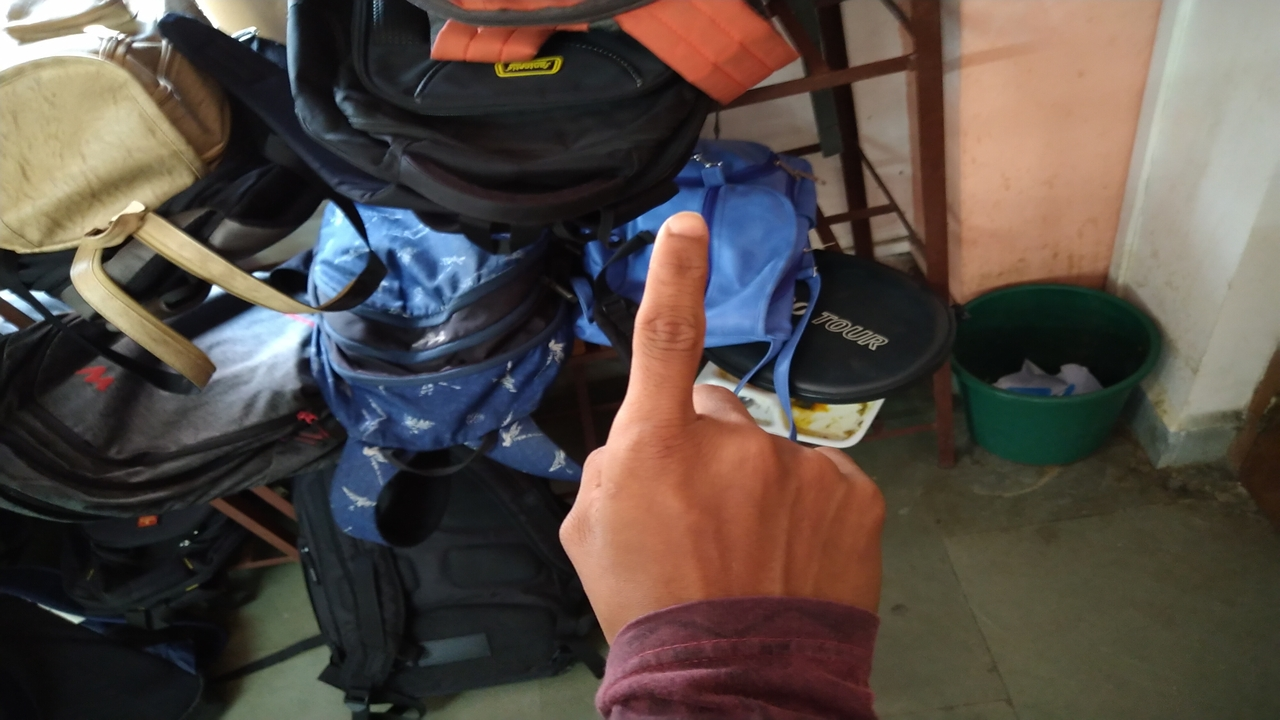fingertip: (650, 204, 708, 266)
